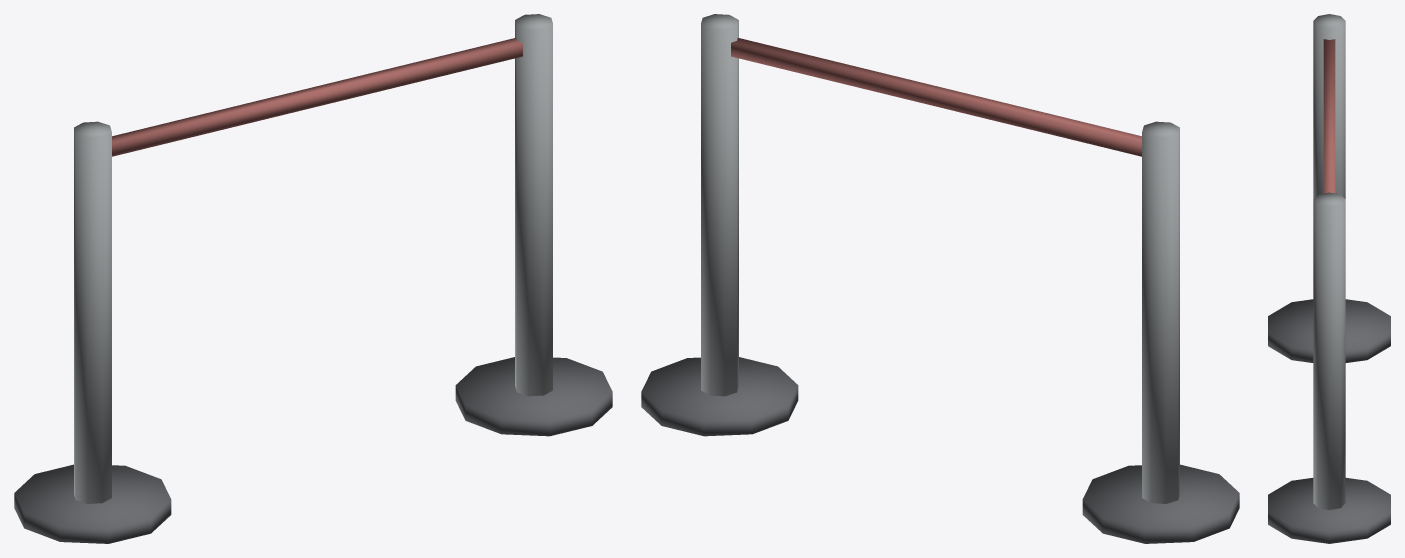
The model's file is queue_stanchion__squat.glb.
3 renders of one model, left to right at view 1: azimuth 30°, elevation 25°; view 2: azimuth 150°, elevation 25°; view 3: azimuth 270°, elevation 25°, orthographic. The views are drawn at different scales.
Visible parts, largest first — view 1: world; view 2: world; view 3: world.
Part boxes in pixels (x1=…): world: x1=14, y1=14, x2=612, y2=543; world: x1=641, y1=14, x2=1239, y2=543; world: x1=1268, y1=14, x2=1390, y2=543.
Bounding box in the file's own units: 1.3 × 0.819 × 0.2876.
